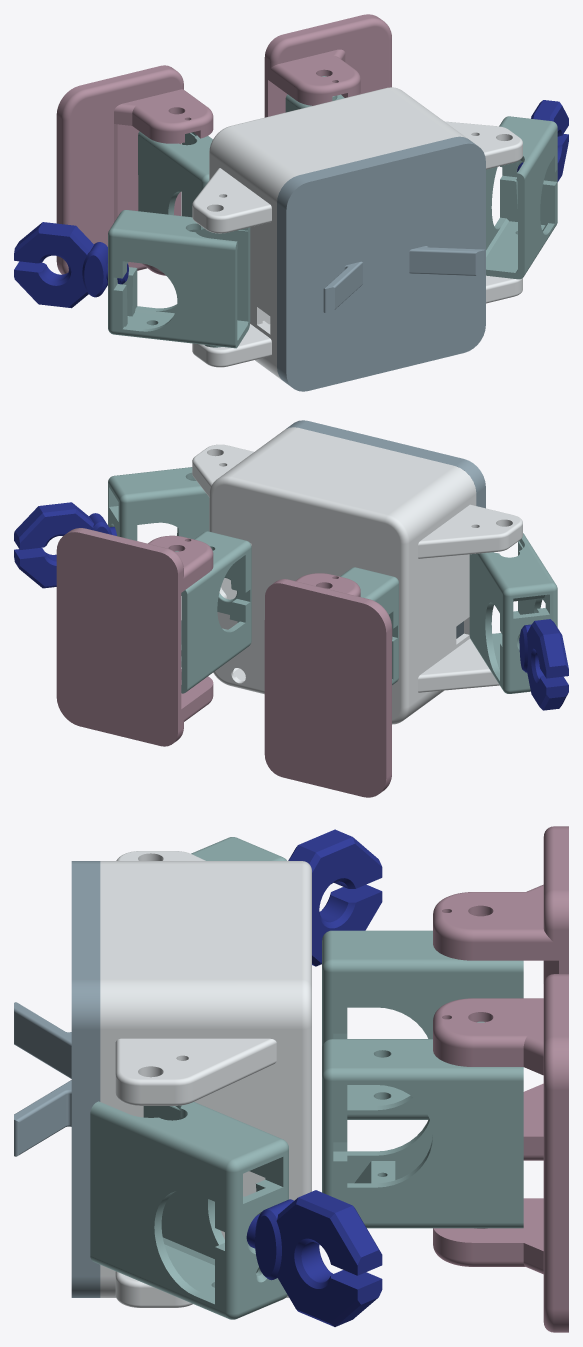
File: otto_robot_pose_20260707_142305.glb
The picture shows the model from 3 angles, top to bottom: view 1: azimuth 30°, elevation 25°; view 2: azimuth 150°, elevation 25°; view 3: azimuth 270°, elevation 25°; orthographic projection. The views are drawn at different scales.
Parts seen in each view (by area): view 1: head-1, body有手-1, foot-1, leg-1, foot-2, leg-2, grip-1, leg-5, grip-2; view 2: body有手-1, foot-2, foot-1, leg-1, leg-6, leg-2, grip-2, grip-1, head-1, leg-5; view 3: body有手-1, leg-2, leg-6, foot-2, head-1, leg-5, foot-1, grip-2, grip-1, leg-1.
Boxes of the visible parts, x1,y1,x2,y2 form: head-1: (277, 136, 485, 391); body有手-1: (192, 87, 522, 380); foot-1: (56, 65, 213, 275); leg-1: (108, 210, 250, 348); foot-2: (264, 14, 391, 117); leg-2: (486, 116, 557, 279); grip-1: (14, 222, 128, 308); leg-5: (138, 131, 212, 217); grip-2: (517, 100, 568, 181); body有手-1: (192, 427, 522, 724); foot-2: (56, 528, 213, 746); foot-1: (264, 573, 392, 797); leg-1: (469, 533, 557, 693); leg-6: (175, 531, 251, 693); leg-2: (108, 467, 209, 540); grip-2: (14, 502, 116, 588); grip-1: (519, 619, 568, 710); head-1: (286, 420, 485, 638); leg-5: (340, 567, 398, 684); body有手-1: (100, 851, 311, 1307); leg-2: (90, 1101, 288, 1319); leg-6: (322, 1021, 523, 1228); foot-2: (433, 974, 568, 1332); head-1: (14, 861, 100, 1297); leg-5: (322, 930, 523, 1119); foot-1: (433, 826, 568, 1160); grip-2: (246, 1190, 382, 1326); grip-1: (288, 829, 382, 966); leg-1: (191, 837, 286, 860).
Size of the model in its own units: 0.192 by 0.069 by 0.1102.
